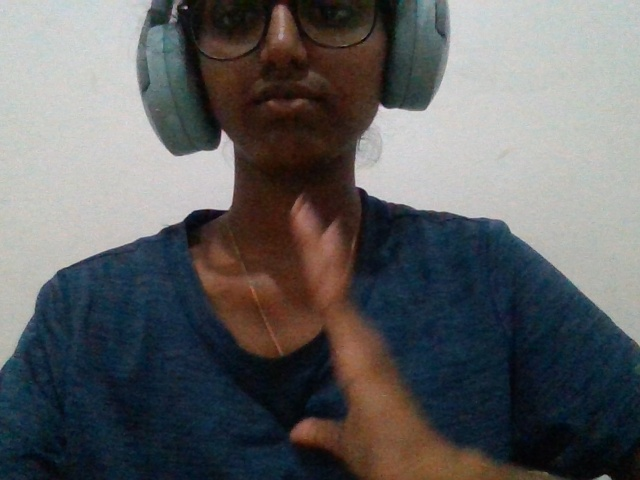Fine: (233, 185, 465, 478)
